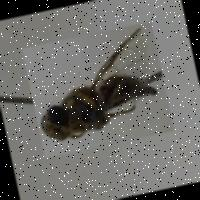Oriental-fruit-fly: (20, 20, 172, 157)
